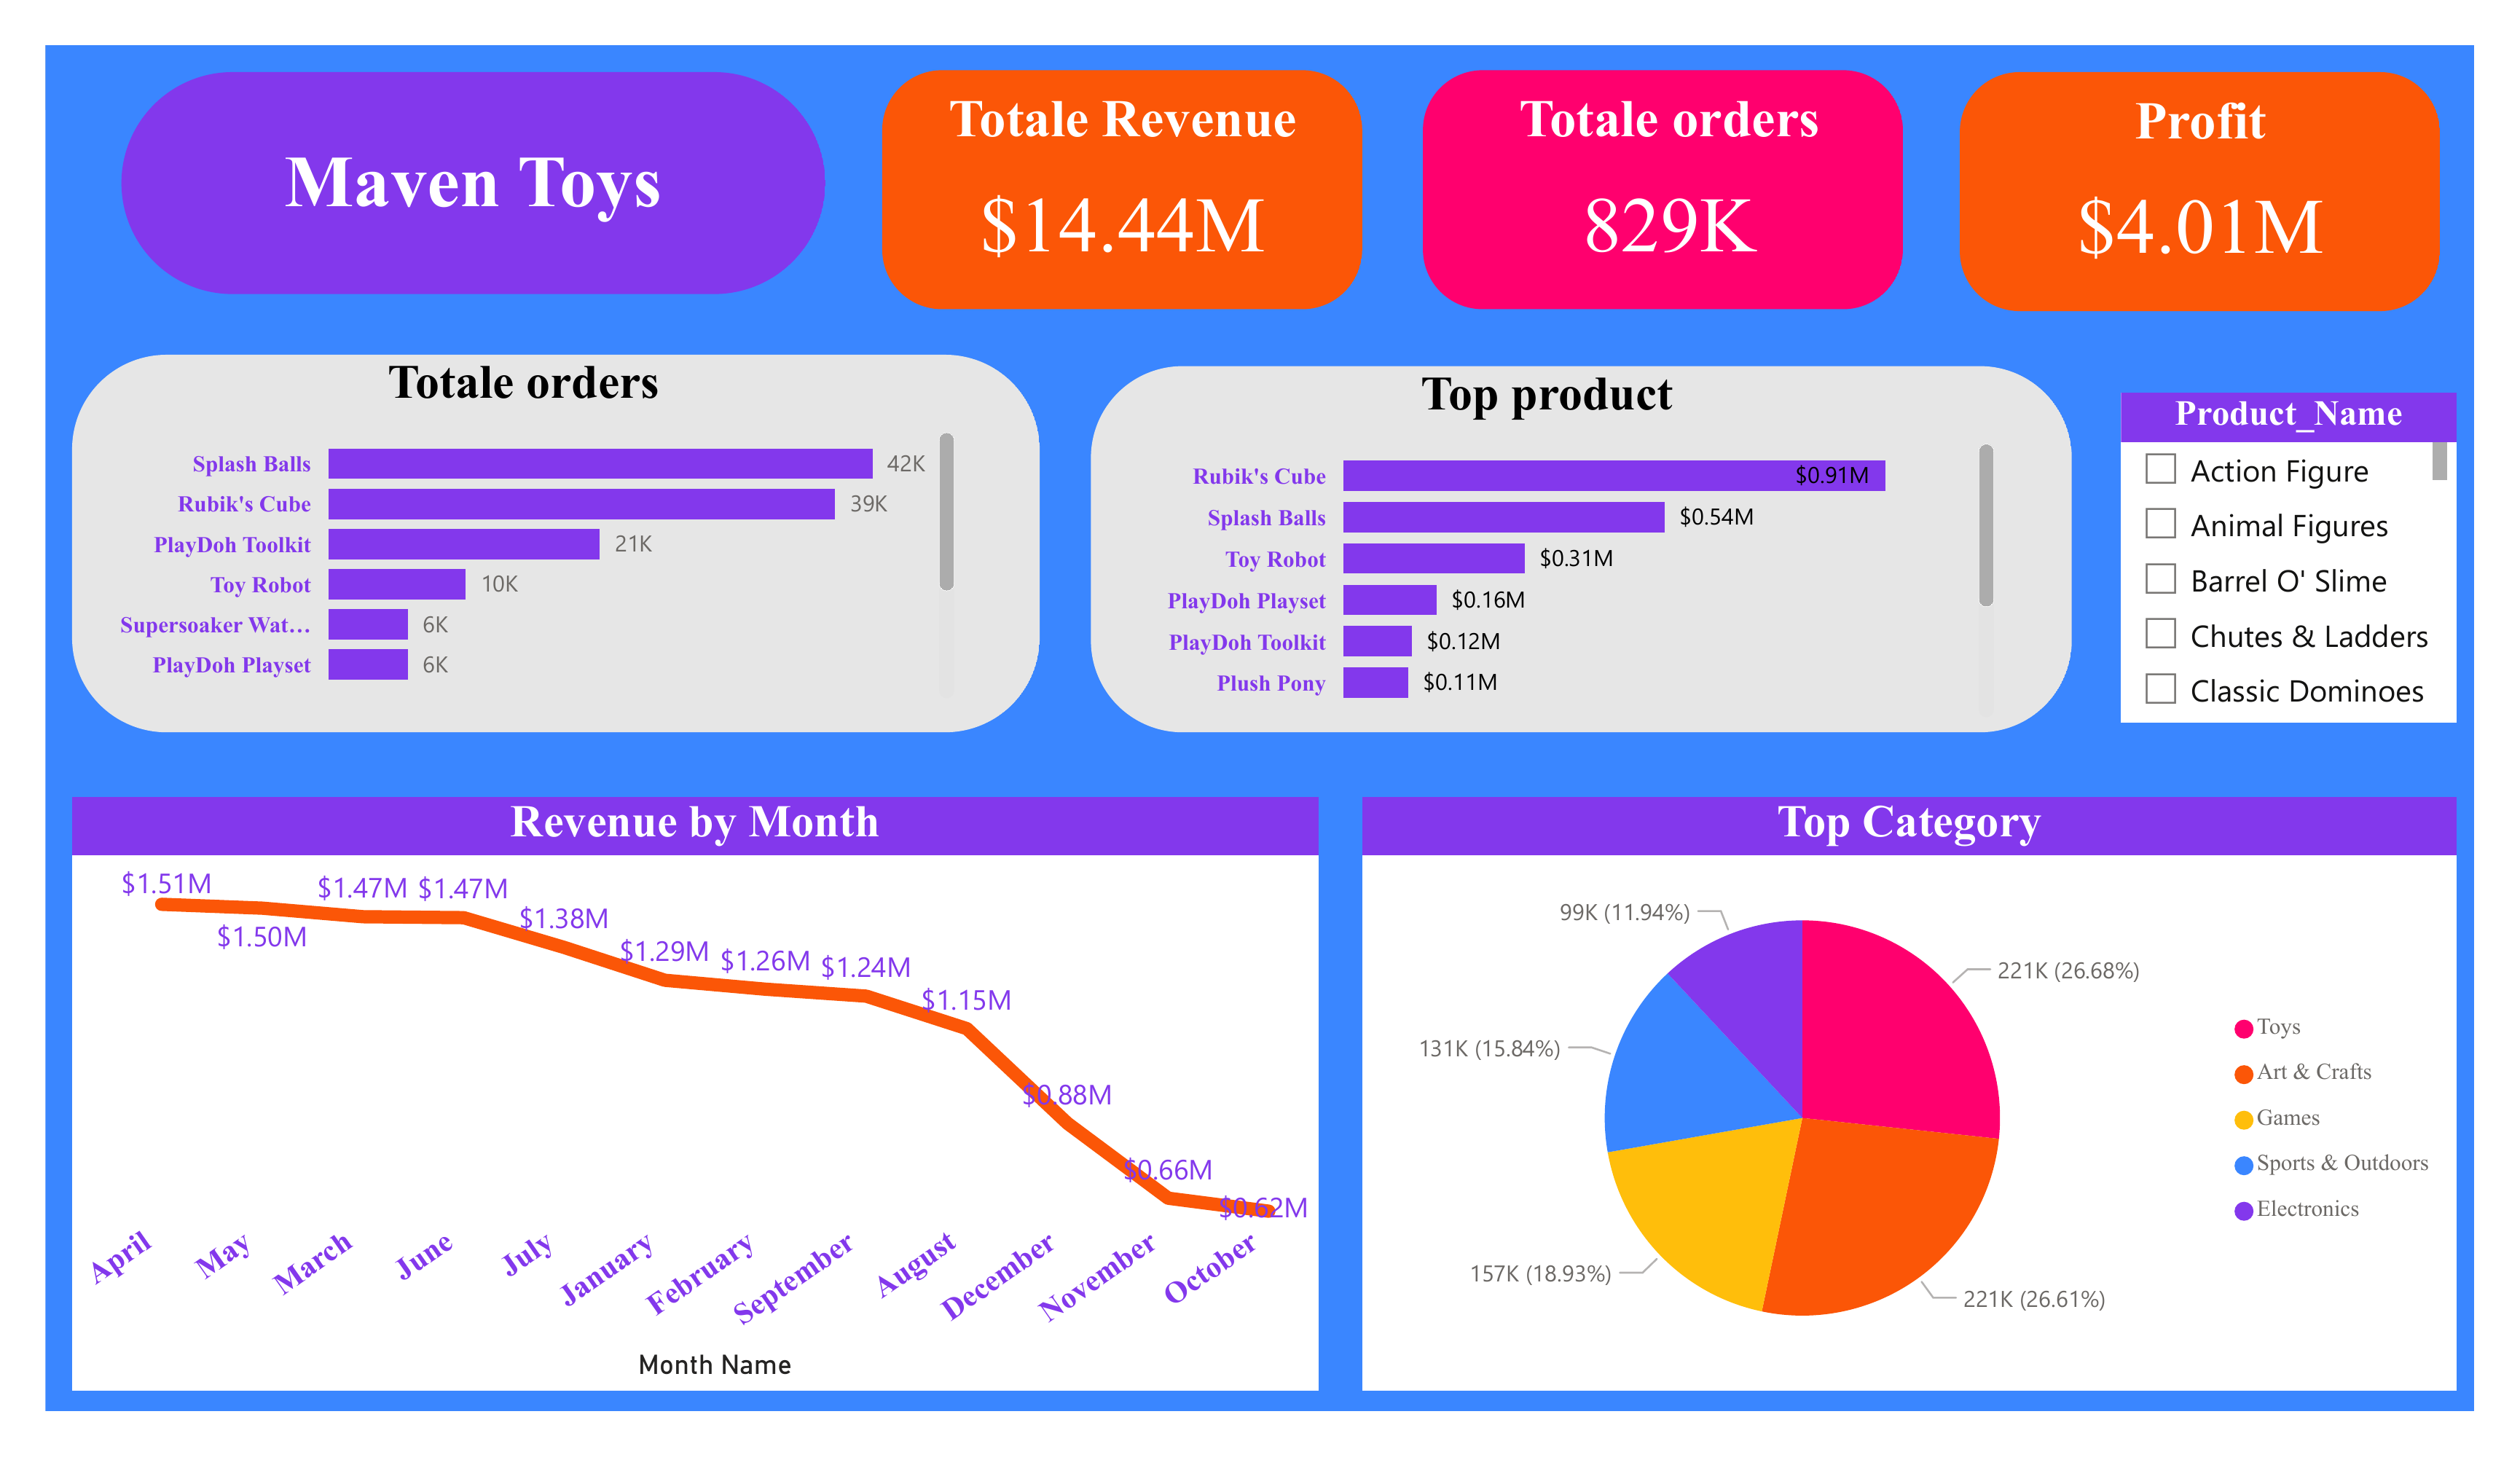

Layout of this report page (visuals, bound fields, positions):
{"tool":"powerbi","page":{"name":"Page 1","canvas":[1280,720],"ordinal":0},"visuals":[{"type":"shape","box":[14.3,162.9,510,198.6],"z":0,"group":"g4"},{"type":"lineChart","title":"Revenue by Month","fields":{"Y":["Sum(sales.Revenue)"],"Category":["calendar.Date Hierarchy.Month Name"]},"box":[14.3,395.7,657.1,312.9],"z":0},{"type":"shape","box":[568.6,167.1,517.1,192.9],"z":1000,"group":"g5"},{"type":"pieChart","title":"Top Category","fields":{"Y":["sales.Totale orders"],"Category":["products.Product_Category"]},"box":[694.3,395.7,577.1,312.9],"z":1000},{"type":"group","id":"g1","title":"Group 1","box":[1008.6,14.3,252.9,125.7],"z":2000},{"type":"clusteredBarChart","title":"Totale orders ","fields":{"Y":["sales.Totale orders"],"Category":["products.Product_Name"]},"box":[20.4,163.1,464.3,185.7],"z":2000,"group":"g4"},{"type":"group","id":"g2","title":"Group 2","box":[725.7,12.9,252.9,125.7],"z":3000},{"type":"clusteredBarChart","title":"Top product","fields":{"Y":["Sum(sales.Revenue)"],"Category":["products.Product_Name"]},"box":[568.6,167.1,481.4,190],"z":3000,"group":"g5"},{"type":"group","id":"g3","title":"Group 3","box":[441.4,12.9,252.9,125.7],"z":4000},{"type":"group","id":"g4","title":"Group 4","box":[14.3,162.9,510,198.6],"z":5000},{"type":"group","id":"g5","title":"Group 5","box":[568.6,167.1,517.1,192.9],"z":6000},{"type":"shape","box":[441.4,12.9,252.9,125.7],"z":7000,"group":"g3"},{"type":"shape","box":[725.7,12.9,252.9,125.7],"z":7000,"group":"g2"},{"type":"shape","box":[40,14.3,371.4,117.1],"z":7000},{"type":"shape","box":[1008.6,14.3,252.9,125.7],"z":7000,"group":"g1"},{"type":"card","title":"Totale Revenue","fields":{"Values":["Sum(sales.Revenue)"]},"box":[465.7,22.9,205.7,107.1],"z":8000,"group":"g3"},{"type":"card","title":"Totale orders","fields":{"Values":["sales.Totale orders"]},"box":[752.8,22.9,205.7,107.1],"z":8000,"group":"g2"},{"type":"card","title":"Profit","fields":{"Values":["Sum(sales.profit)"]},"box":[1032.9,24.3,205.7,107.1],"z":8000,"group":"g1"},{"type":"slicer","title":"Product_Name","fields":{"Values":["products.Product_Name"]},"box":[1098.2,182.8,173,179.1],"z":8000}]}

Visuals, with their boxes in screenshot pixels (x1, y1, x2, y2), scaled from the page's 1280x720 canvas onto the 2520x1457 screenshot:
shape: crop(28, 329, 1032, 731)
"Revenue by Month" lineChart: crop(28, 801, 1322, 1434)
shape: crop(1120, 338, 2138, 728)
"Top Category" pieChart: crop(1367, 801, 2503, 1434)
"Group 1" group: crop(1986, 29, 2484, 283)
"Totale orders " clusteredBarChart: crop(40, 330, 954, 706)
"Group 2" group: crop(1429, 26, 1927, 280)
"Top product" clusteredBarChart: crop(1120, 338, 2067, 723)
"Group 3" group: crop(869, 26, 1367, 280)
"Group 4" group: crop(28, 329, 1032, 731)
"Group 5" group: crop(1120, 338, 2138, 728)
shape: crop(869, 26, 1367, 280)
shape: crop(1429, 26, 1927, 280)
shape: crop(79, 29, 810, 266)
shape: crop(1986, 29, 2484, 283)
"Totale Revenue" card: crop(916, 47, 1322, 263)
"Totale orders" card: crop(1482, 47, 1887, 263)
"Profit" card: crop(2033, 50, 2438, 266)
"Product_Name" slicer: crop(2162, 370, 2503, 732)
